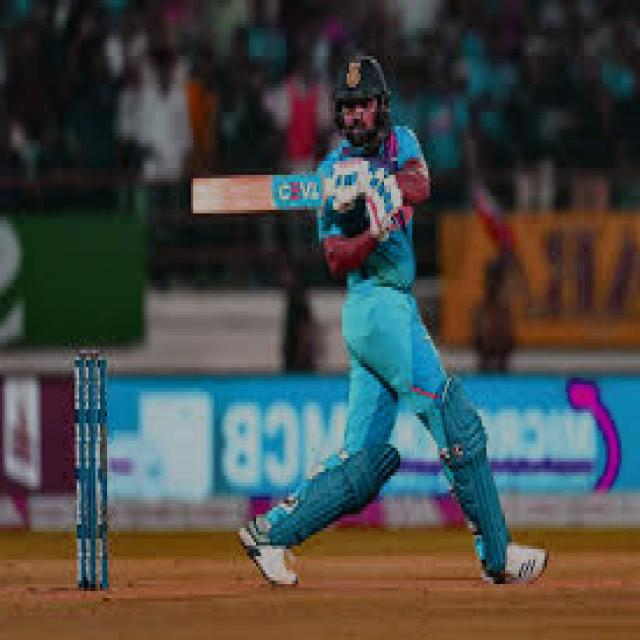toe: (188, 180, 212, 214)
